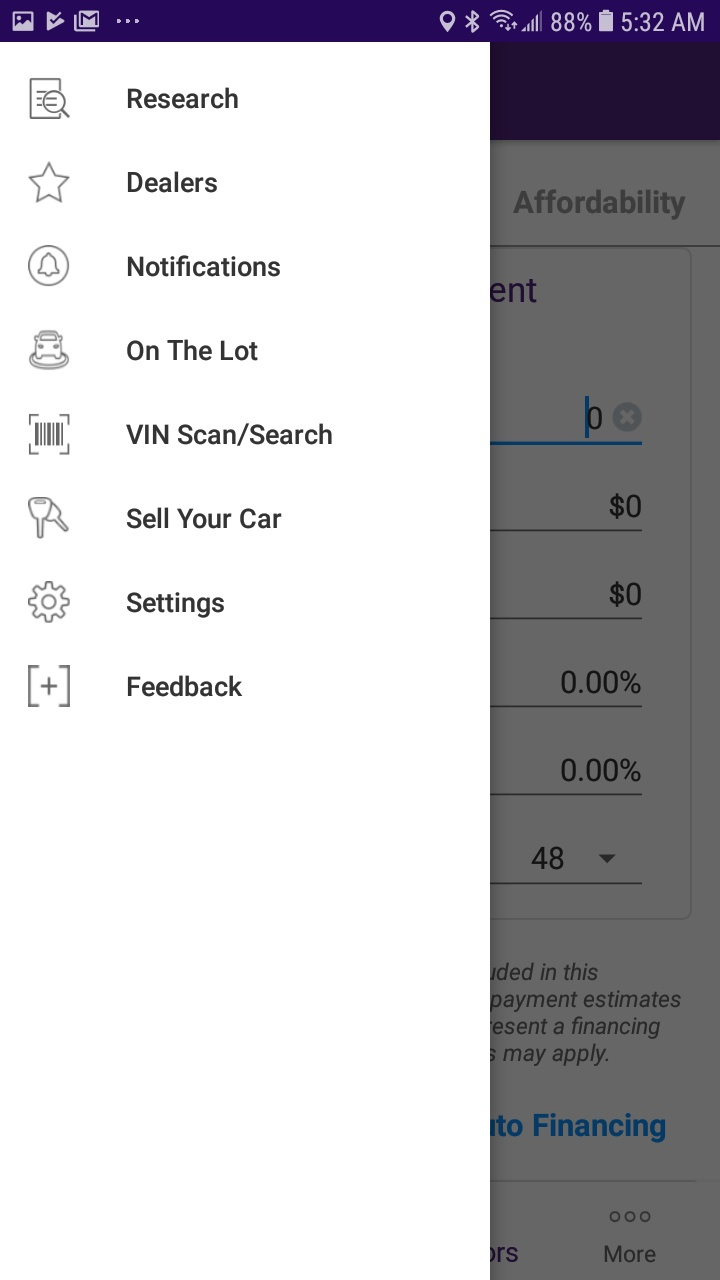Drawer: (1, 43, 491, 1280)
Icon: (28, 665, 71, 708), (28, 581, 71, 624), (28, 245, 70, 287), (29, 162, 71, 204), (30, 78, 71, 121)
Image: (28, 497, 70, 540), (29, 414, 71, 456), (29, 330, 70, 371)
Text: (126, 423, 333, 447), (127, 507, 283, 530), (128, 255, 281, 278), (127, 339, 259, 362), (127, 592, 225, 619), (128, 87, 239, 110), (128, 675, 244, 697), (128, 171, 218, 194)
UpperTaskBar: (1, 1, 720, 43)
